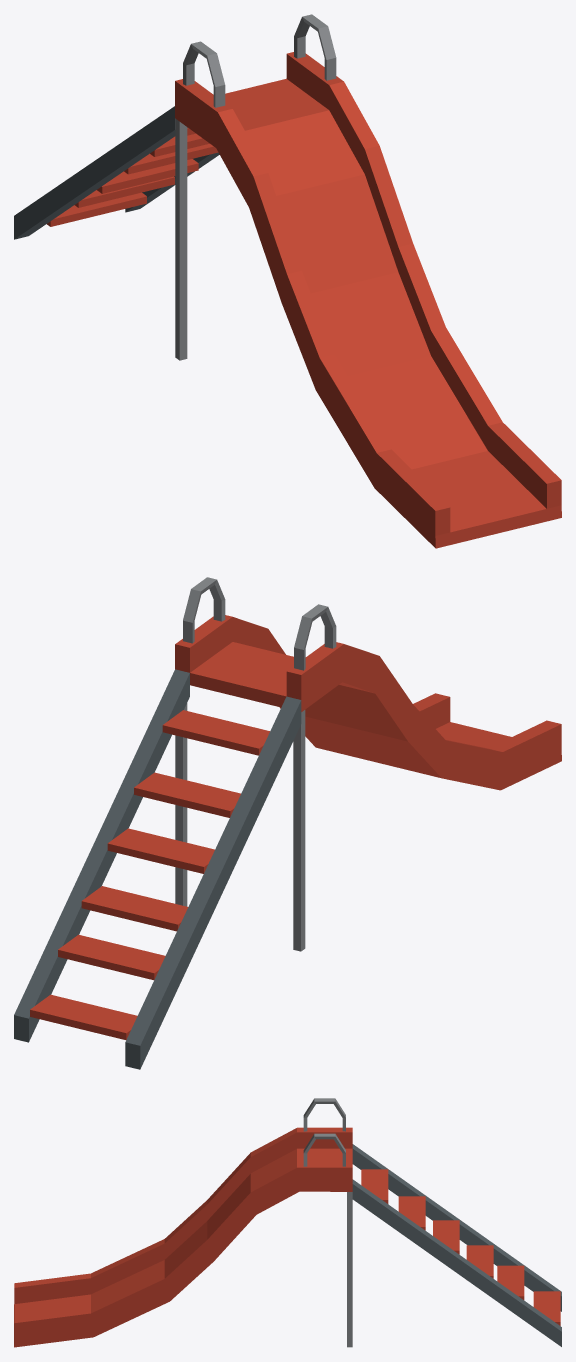
File: Environment_Objects_Slides.fbx
3 renders of one model, top to bottom at view 1: azimuth 30°, elevation 25°; view 2: azimuth 150°, elevation 25°; view 3: azimuth 270°, elevation 25°, orthographic. The views are drawn at different scales.
Visible parts, largest first — view 1: Environment_Objects_Slides; view 2: Environment_Objects_Slides; view 3: Environment_Objects_Slides.
Part boxes in pixels (x1,y1,x2,y2): Environment_Objects_Slides: (14,14,561,548); Environment_Objects_Slides: (14,577,561,1069); Environment_Objects_Slides: (14,1098,561,1347).
Bounding box in the file's own units: 99.2 × 243 × 574.
